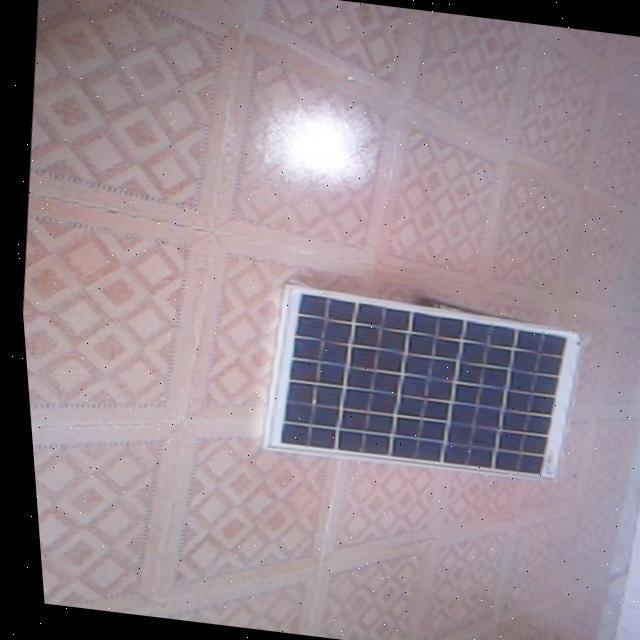Normal Solar Panel: (243, 284, 584, 487)
